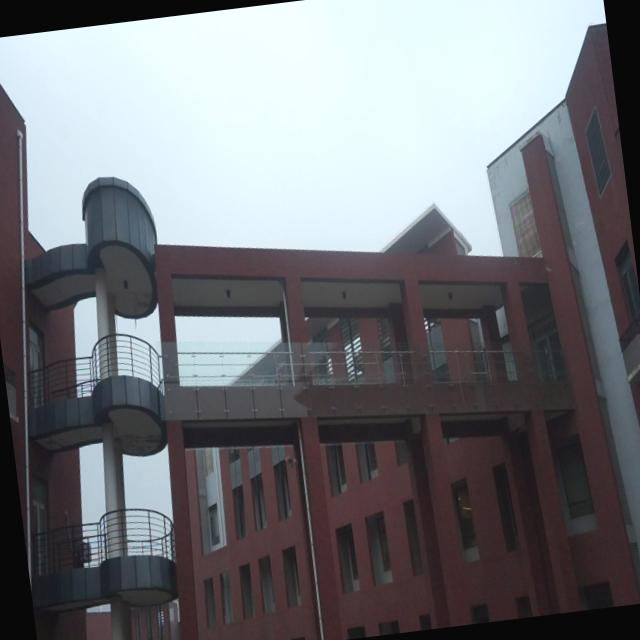drone: (281, 450, 302, 470)
